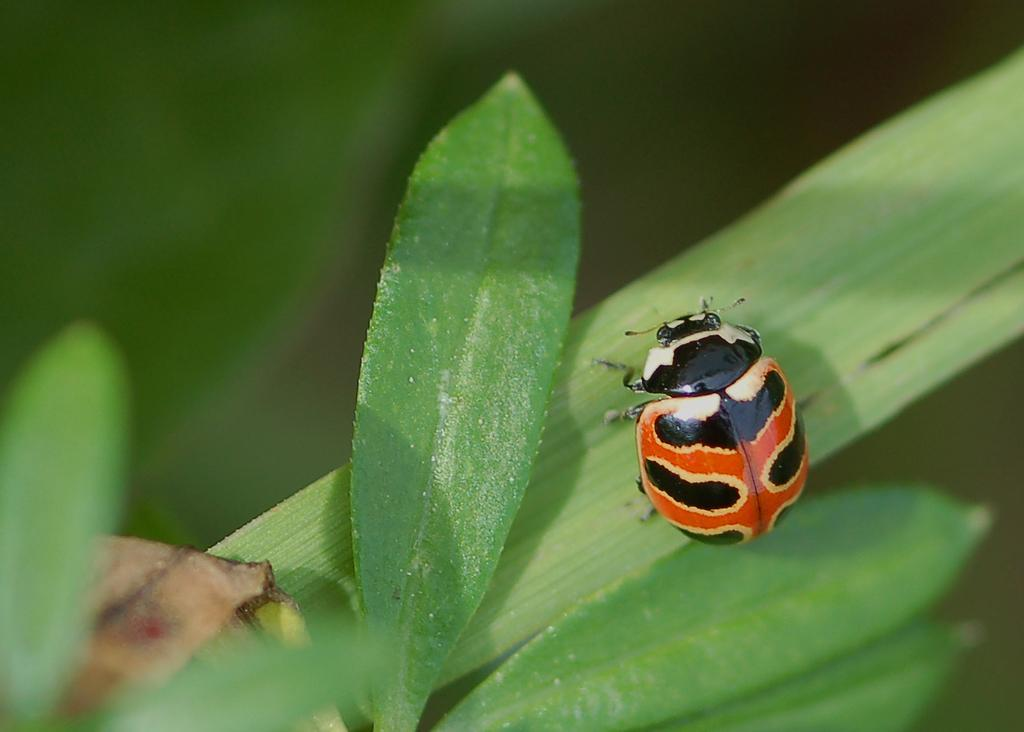ladybug: (595, 293, 819, 553)
